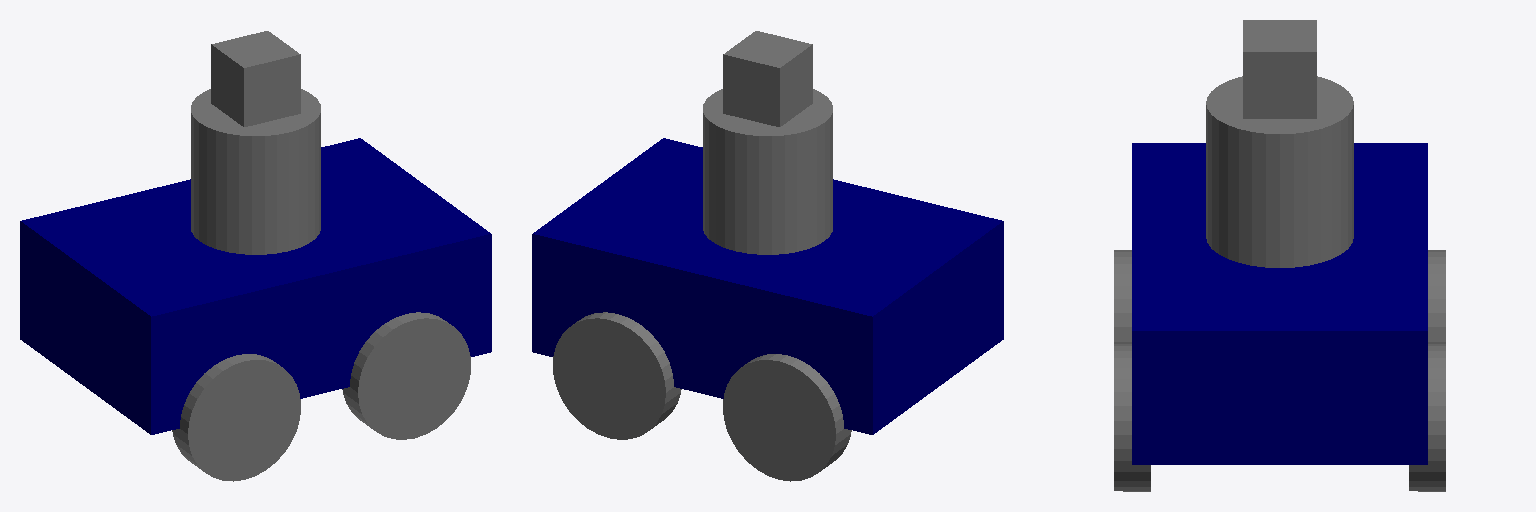
robot.urdf — my_robot:
<?xml version="1.0"?>
<robot name="my_robot">
    <material name="blue">
        <color rgba="0 0 0.5 1" />
    </material>
    <material name="grey">
        <color rgba="0.5 0.5 0.5 1" />
    </material>
    <link name="base_link">
        <visual>
            <geometry>
                <box size="0.6 0.4 0.2" />
            </geometry>
            <origin xyz="0 0 0.1" rpy="0 0 0" />
            <material name="blue" />
        </visual>
    </link>
    <link name="second_link">
        <visual>
            <geometry>
                <cylinder radius="0.1" length="0.2" />
            </geometry>
            <origin xyz="0 0 0.1" rpy="0 0 0" />
            <material name="grey" />
        </visual>
    </link>
    <link name="third_link">
        <visual>
            <geometry>
                <box size="0.1 0.1 0.1" />
            </geometry>
            <origin xyz="0 0 0.05" rpy="0 0 0" />
            <material name="grey" />
        </visual>
    </link>

    <link name="right_rear_wheel_link">
        <visual>
            <geometry>
                <cylinder radius="0.1" length="0.05" />
            </geometry>
            <origin xyz="0 0 0" rpy="1.57 0 0" />
            <material name="grey" />
        </visual>
    </link>

    <link name="right_front_wheel_link">
        <visual>
            <geometry>
                <cylinder radius="0.1" length="0.05" />
            </geometry>
            <origin xyz="0 0 0" rpy="1.57 0 0" />
            <material name="grey" />
        </visual>
    </link>

    <link name="left_rear_wheel_link">
        <visual>
            <geometry>
                <cylinder radius="0.1" length="0.05" />
            </geometry>
            <origin xyz="0 0 0" rpy="1.57 0 0" />
            <material name="grey" />
        </visual>
    </link>

    <link name="left_front_wheel_link">
        <visual>
            <geometry>
                <cylinder radius="0.1" length="0.05" />
            </geometry>
            <origin xyz="0 0 0" rpy="1.57 0 0" />
            <material name="grey" />
        </visual>
    </link>

    <joint name="base_second_joint" type="fixed">
        <parent link="base_link" />
        <child link="second_link" />
        <origin xyz="0 0 0.2" rpy="0 0 0" />
        <!-- <axis xyz="0 0 1"/>
        <limit lower="-1.57" upper="1.57" effort="10" velocity="1"/> -->
    </joint>
    <!-- <joint name="base_third_joint" type="revolute">
        <parent link="second_link"/>
        <child link="third_link"/>
        <origin xyz="0 0 0.2" rpy="0 0 0"/>
        <axis xyz="0 0 1"/>
        <limit lower="-1.57" upper="1.57" effort="10" velocity="1"/>
    </joint> -->

    <!-- <joint name="base_third_joint" type="continuous">
        <parent link="second_link"/>
        <child link="third_link"/>
        <origin xyz="0 0 0.2" rpy="0 0 0"/>
        <axis xyz="0 0 1"/>
    </joint> -->

    <joint name="base_third_joint" type="prismatic">
        <parent link="second_link" />
        <child link="third_link" />
        <origin xyz="0 0 0.2" rpy="0 0 0" />
        <axis xyz="0 0 1" />
        <limit lower="0.0" upper="0.2" effort="10" velocity="0.1" />
    </joint>

    <!-- Adding a Wheel -->
    <joint name="base_right_rear_wheel_joint" type="continuous">
        <parent link="base_link" />
        <child link="right_rear_wheel_link" />
        <origin xyz="-0.15 -0.2 0" rpy="0 0 0" />
        <axis xyz="0 1 0" />
    </joint>

    <joint name="base_right_front_wheel_joint" type="continuous">
        <parent link="base_link" />
        <child link="right_front_wheel_link" />
        <origin xyz="0.15 -0.2 0" rpy="0 0 0" />
        <axis xyz="0 1 0" />
    </joint>

    <joint name="base_left_rear_wheel_joint" type="continuous">
        <parent link="base_link" />
        <child link="left_rear_wheel_link" />
        <origin xyz="-0.15 0.2 0" rpy="0 0 0" />
        <axis xyz="0 1 0" />
    </joint>

    <joint name="base_left_front_wheel_joint" type="continuous">
        <parent link="base_link" />
        <child link="left_front_wheel_link" />
        <origin xyz="0.15 0.2 0" rpy="0 0 0" />
        <axis xyz="0 1 0" />
    </joint>
</robot>

--- Render facts (derived) ---
The picture shows the robot from 3 angles, left to right: view 1: azimuth 30°, elevation 25°; view 2: azimuth 150°, elevation 25°; view 3: azimuth 270°, elevation 25°; orthographic projection.
Robot: my_robot — 7 links, 6 joints (4 continuous, 1 prismatic, 1 fixed); root link base_link; default pose: every joint at zero.
Links seen in each view (by area): view 1: base_link, second_link, right_front_wheel_link, right_rear_wheel_link, third_link; view 2: base_link, second_link, left_rear_wheel_link, left_front_wheel_link, third_link; view 3: base_link, second_link, third_link, right_front_wheel_link, left_front_wheel_link, right_rear_wheel_link, left_rear_wheel_link.
Link boxes in pixels (x1=…): base_link: x1=20, y1=138, x2=491, y2=434; second_link: x1=191, y1=89, x2=320, y2=254; right_front_wheel_link: x1=342, y1=312, x2=470, y2=439; right_rear_wheel_link: x1=172, y1=354, x2=300, y2=481; third_link: x1=211, y1=31, x2=300, y2=126; base_link: x1=532, y1=138, x2=1003, y2=434; second_link: x1=703, y1=89, x2=832, y2=254; left_rear_wheel_link: x1=723, y1=354, x2=851, y2=481; left_front_wheel_link: x1=553, y1=312, x2=681, y2=439; third_link: x1=723, y1=31, x2=812, y2=126; base_link: x1=1132, y1=143, x2=1427, y2=464; second_link: x1=1206, y1=76, x2=1353, y2=267; third_link: x1=1243, y1=20, x2=1316, y2=118; right_front_wheel_link: x1=1114, y1=344, x2=1150, y2=491; left_front_wheel_link: x1=1409, y1=344, x2=1445, y2=491; right_rear_wheel_link: x1=1114, y1=250, x2=1131, y2=343; left_rear_wheel_link: x1=1428, y1=250, x2=1445, y2=343.
Size in the robot's own frame: 0.6 by 0.4502 by 0.6 metres.
Geometry: primitives only (box / cylinder / sphere), no mesh files.